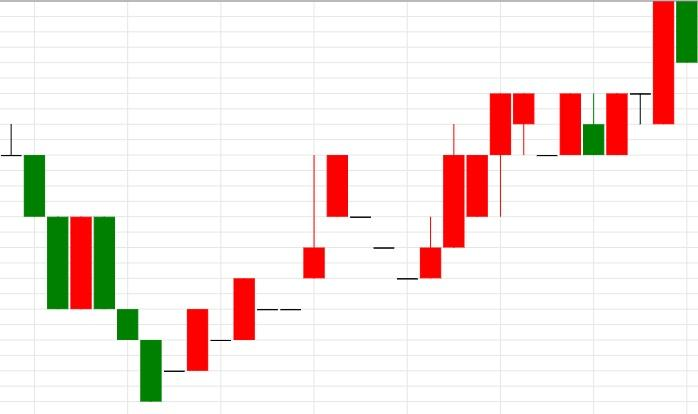shooting_star_fall: (140, 155, 326, 402)
